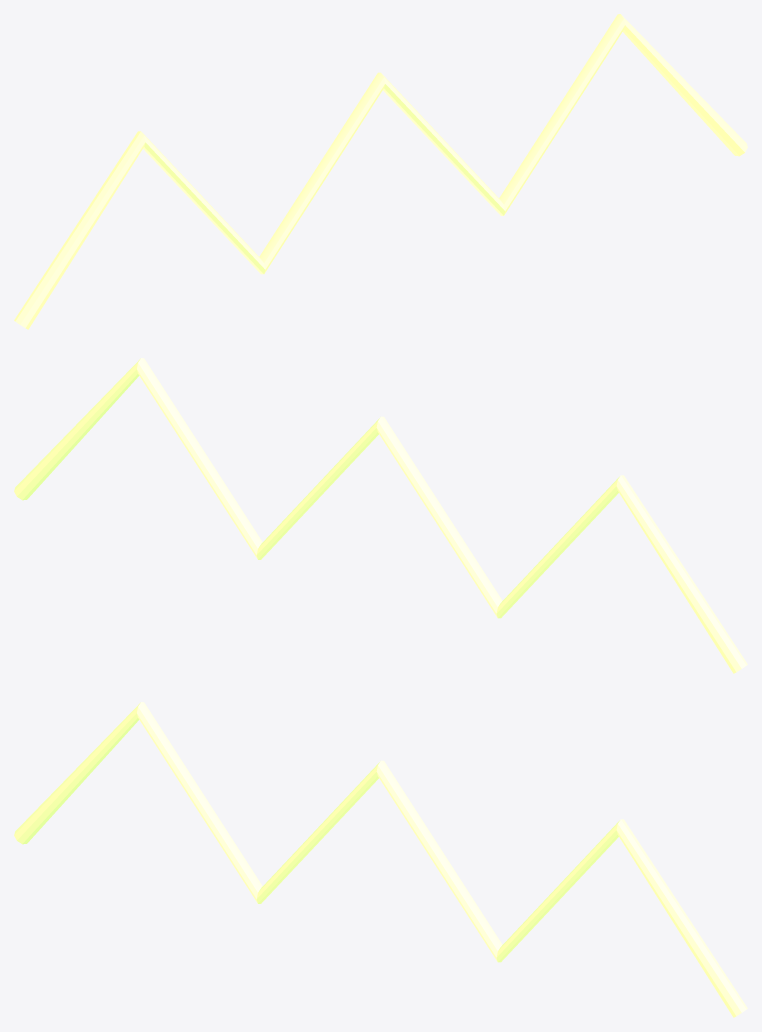
Rendered from arcade_neon_zigzag.glb.
3 views of the same model, one above another, from view 1: azimuth 30°, elevation 25°; view 2: azimuth 150°, elevation 25°; view 3: azimuth 330°, elevation 25° (orthographic).
Visible parts, largest first — view 1: Zigzag; view 2: Zigzag; view 3: Zigzag.
Part boxes in pixels (<box>): Zigzag: <box>14,14,747,329</box>; Zigzag: <box>14,358,747,673</box>; Zigzag: <box>14,702,747,1017</box>.
Size of the model in its own units: 1.95 by 0.44 by 0.04.
